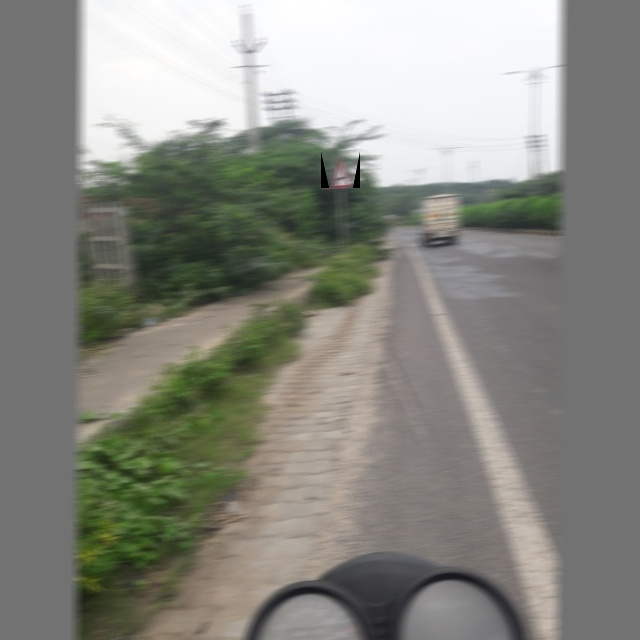Right_Hand_Curve: (321, 151, 360, 188)
